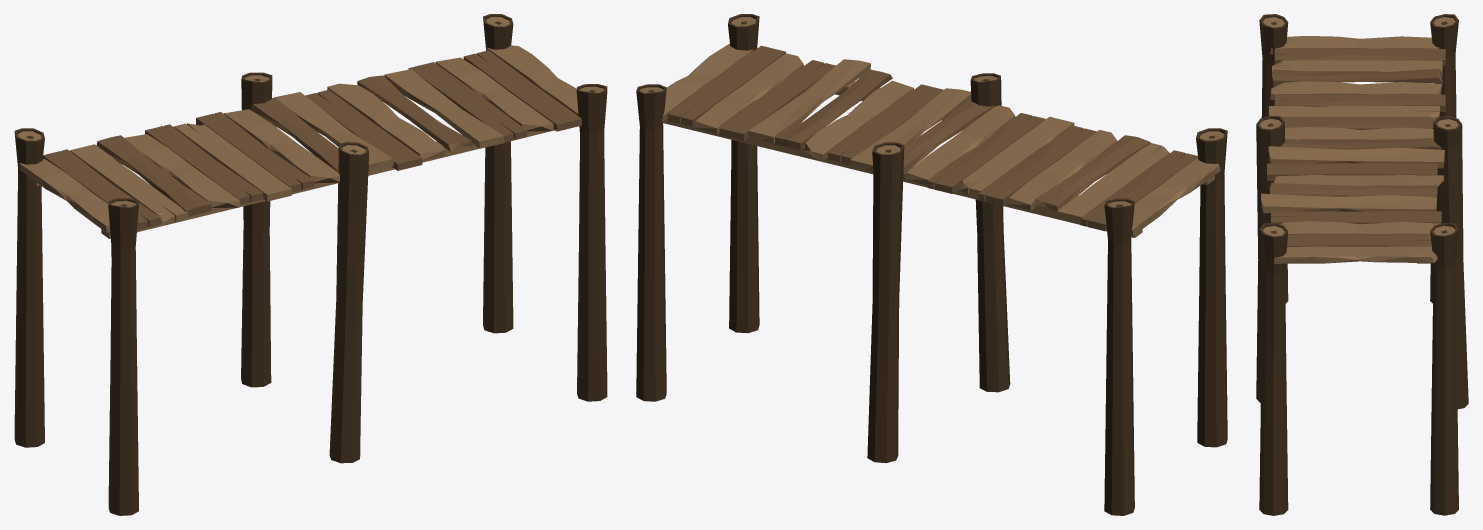
File: Bridge_01.fbx
3 renders of one model, left to right at view 1: azimuth 30°, elevation 25°; view 2: azimuth 150°, elevation 25°; view 3: azimuth 270°, elevation 25°, orthographic. The views are drawn at different scales.
Visible parts, largest first — view 1: Bridge_01; view 2: Bridge_01; view 3: Bridge_01.
Part boxes in pixels (x1,y1,x2,y2): Bridge_01: (14, 14, 607, 515); Bridge_01: (636, 14, 1227, 515); Bridge_01: (1256, 14, 1468, 515).
Size of the model in its own units: 8.35 by 4.96 by 3.38.
